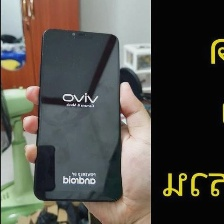phone: (30, 24, 127, 204)
